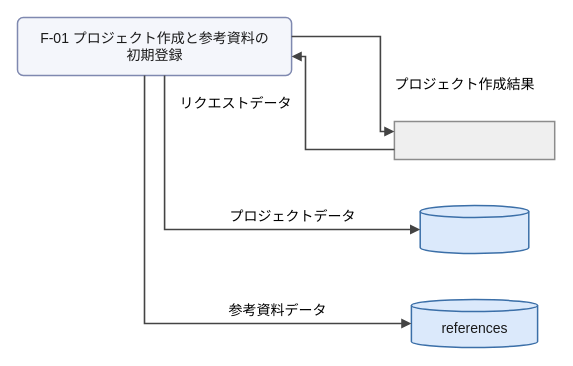
The diagram is 573 pixels wide and 366 high, and some of its shapes have lost their labels. Here are the shapes that lost their labels. From the top down, the box of each, then its label:
(393, 120, 555, 160): クライアント利用者
(419, 204, 529, 254): projects
